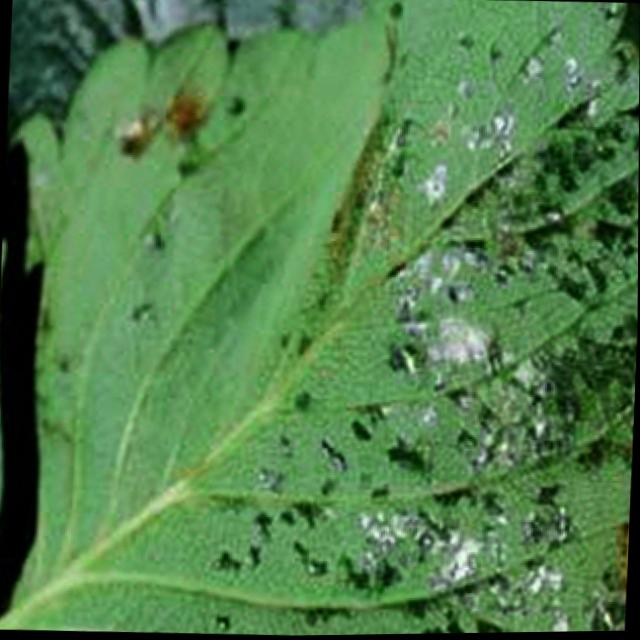Angular Leafspot: (13, 0, 640, 636)
